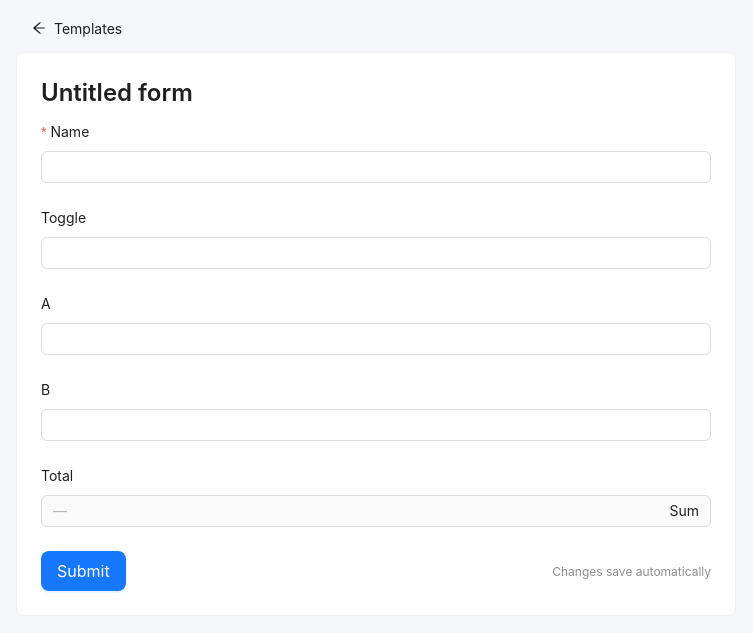
FillPage › updates the calculation in real time
Type "4" into the number field labelled "A" at x=376, y=339, box top-left (42, 324), bottom-right (710, 354)
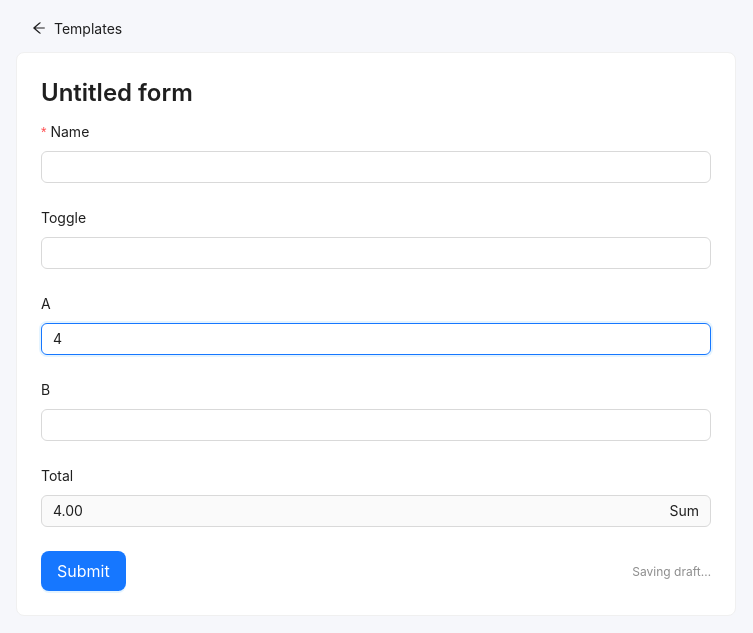
Type "6" into the number field labelled "B" at x=376, y=425, box top-left (42, 410), bottom-right (710, 440)
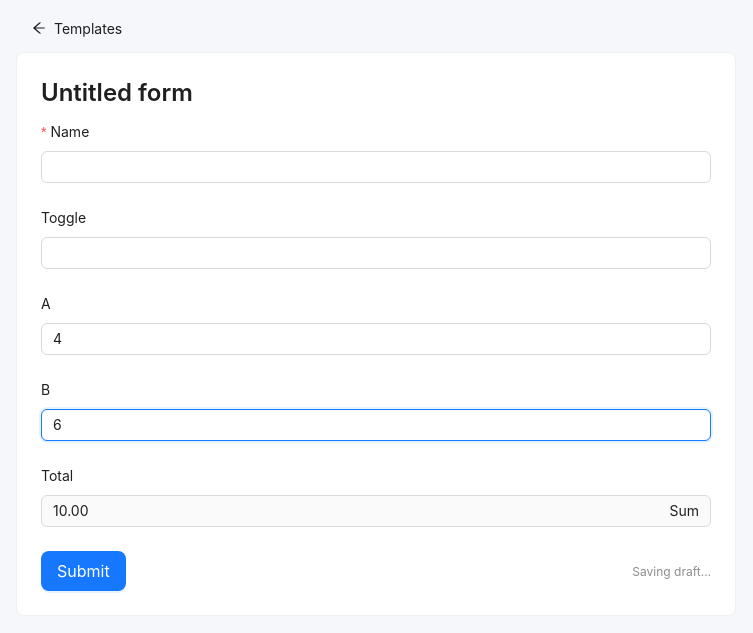
Expected: the field labelled "Total" holds "10.00", top-left (53, 500), bottom-right (666, 522)
